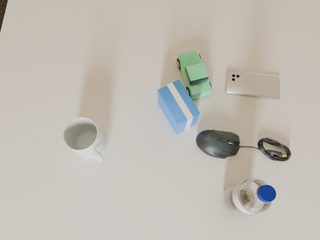bottle: (223, 178, 276, 214)
box: (158, 80, 200, 134)
cup: (63, 117, 105, 163)
mouse: (196, 130, 242, 159)
phone: (225, 70, 280, 99)
toy_car: (177, 50, 212, 99)
